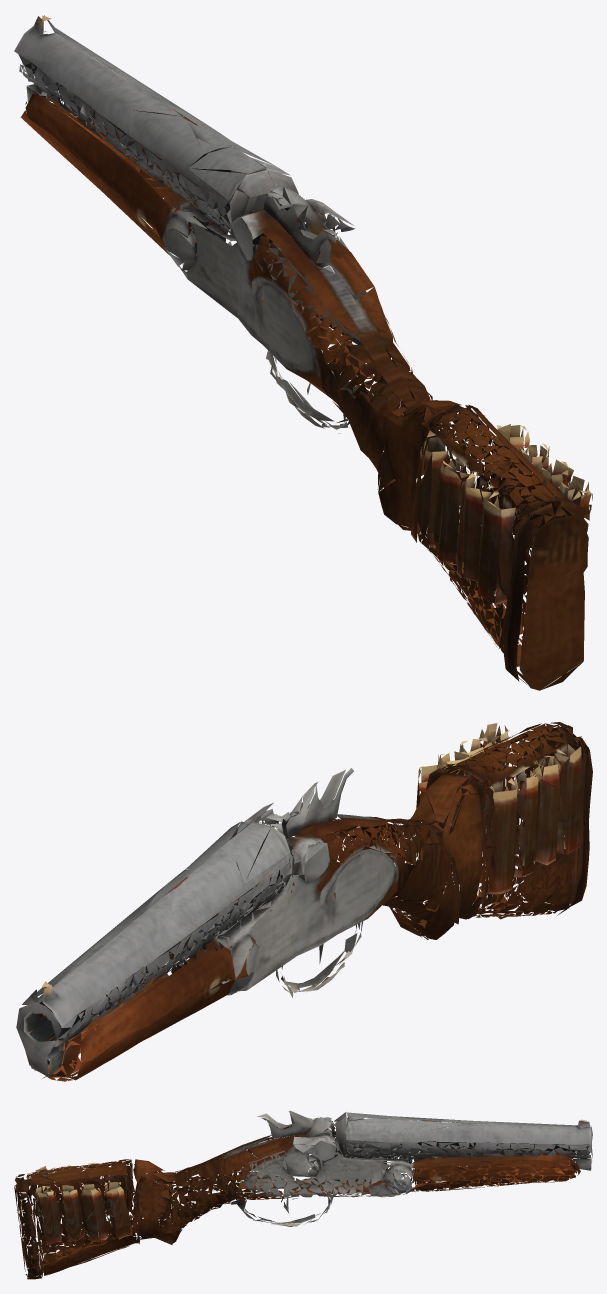
The model's file is shotgun_tombsweeper.glb.
The picture shows the model from 3 angles, top to bottom: view 1: azimuth 30°, elevation 25°; view 2: azimuth 150°, elevation 25°; view 3: azimuth 270°, elevation 25°; orthographic projection. The views are drawn at different scales.
Parts seen in each view (by area): view 1: gun, barrels, hammer_r, hammer_l; view 2: gun, barrels, hammer_r, hammer_l; view 3: gun, barrels, hammer_l, hammer_r.
Boxes of the visible parts, box(x1,y1,x2,y2) form: gun: box(152, 157, 592, 690); barrels: box(14, 15, 290, 317); hammer_r: box(231, 186, 338, 263); hammer_l: box(272, 186, 355, 239); gun: box(183, 722, 592, 1016); barrels: box(16, 822, 296, 1081); hammer_r: box(265, 768, 353, 862); hammer_l: box(238, 802, 296, 843); gun: box(14, 1112, 485, 1279); barrels: box(344, 1112, 592, 1195); hammer_l: box(269, 1111, 340, 1153); hammer_r: box(257, 1110, 335, 1137).
Size of the model in its own units: 0.0862 by 0.2402 by 0.7511.
1 material, 1 textured.
